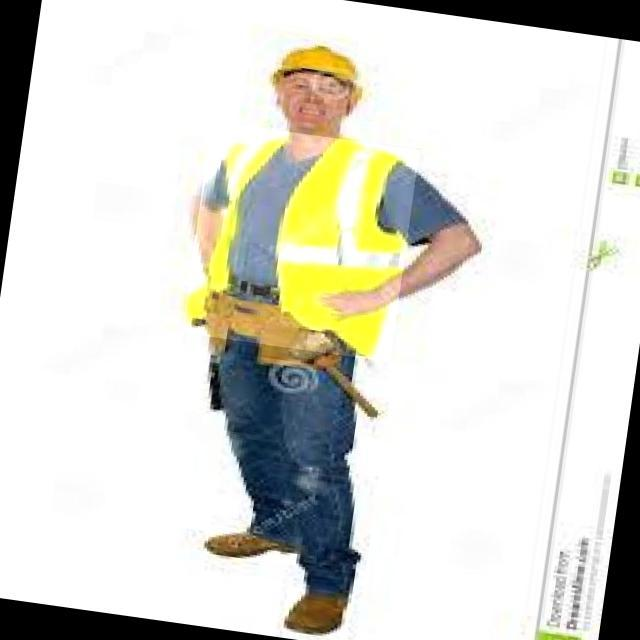Helmet: (270, 34, 372, 89)
Person: (143, 19, 497, 640)
Safety Boot: (204, 525, 303, 567), (281, 586, 354, 640)
Safety Vest: (182, 121, 420, 362)
bare-arms: (318, 275, 401, 327)
